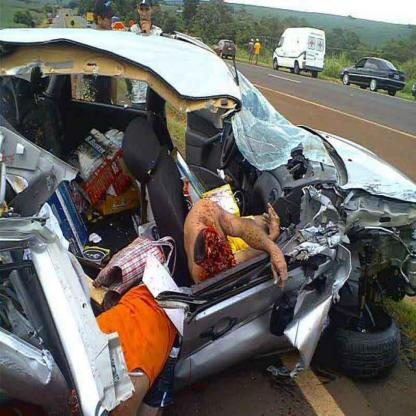face: (140, 3, 151, 24), (101, 10, 111, 30)
